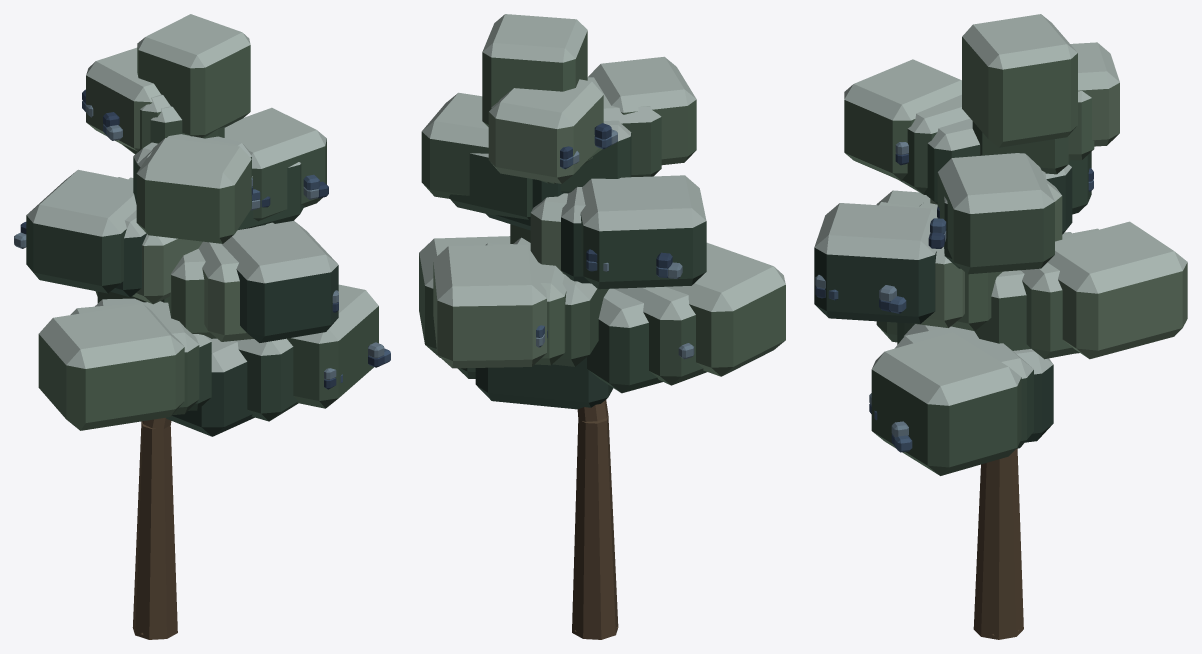
The model's file is juniper_mature_winter_2.glb.
3 views of the same model, side by side, from view 1: azimuth 30°, elevation 25°; view 2: azimuth 150°, elevation 25°; view 3: azimuth 270°, elevation 25° (orthographic). The views are drawn at different scales.
Visible parts, largest first — view 1: juniper_mature_winter_2; view 2: juniper_mature_winter_2; view 3: juniper_mature_winter_2.
Boxes of the visible parts, x1,y1,x2,y2 form: juniper_mature_winter_2: (14, 14, 390, 639); juniper_mature_winter_2: (419, 14, 785, 639); juniper_mature_winter_2: (814, 14, 1187, 639).
Size of the model in its own units: 7.2 by 12 by 6.54.
